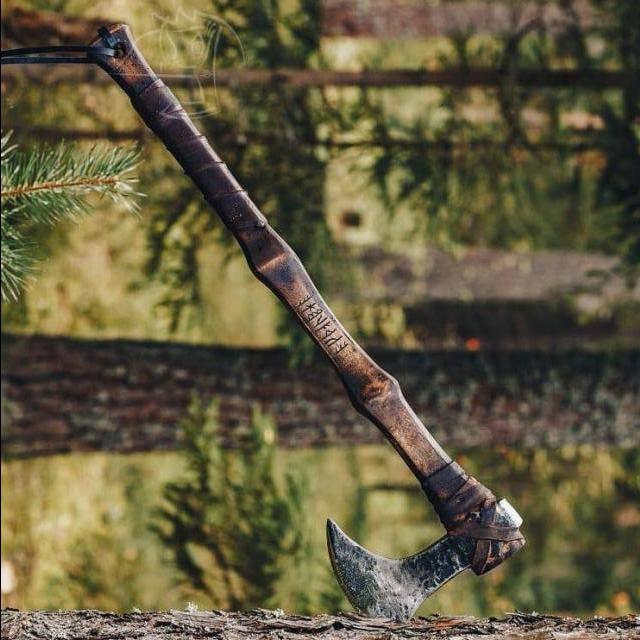axe: (83, 24, 531, 622)
